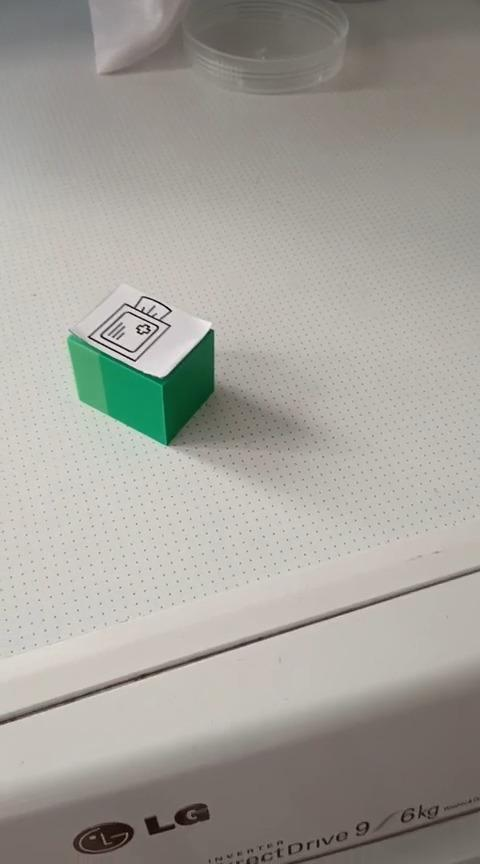Gauze: (65, 281, 215, 446)
